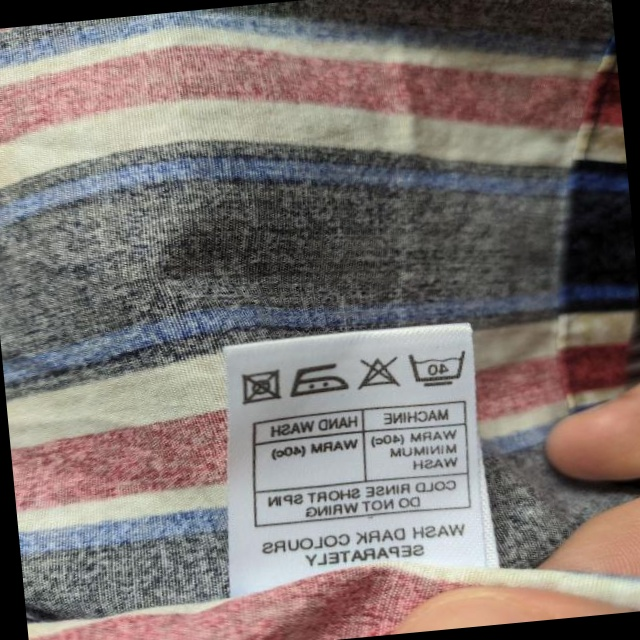40C: (404, 346, 473, 392)
DN_bleach: (357, 353, 401, 391)
DN_tumble_dry: (234, 366, 285, 407)
iron_medium: (288, 361, 348, 399)
